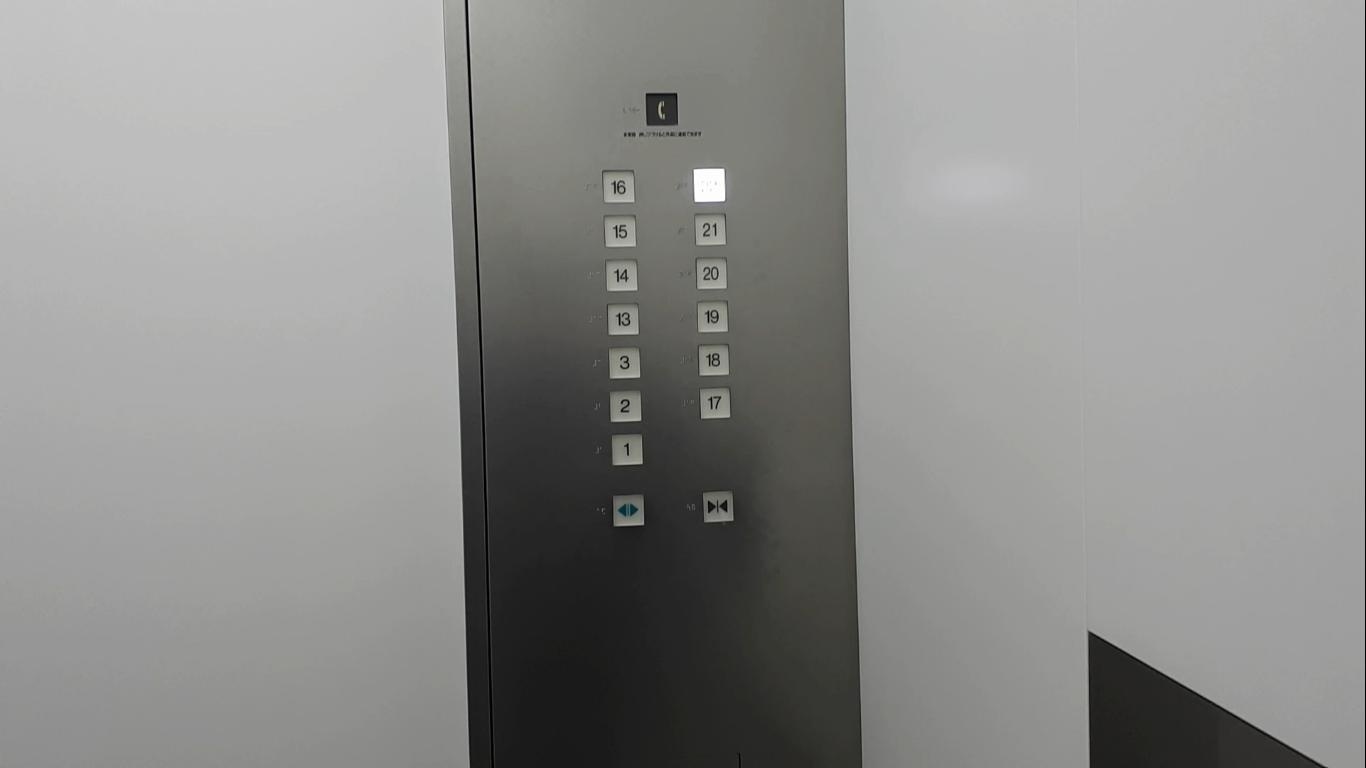1: (610, 433, 644, 467)
13: (606, 302, 640, 337)
14: (604, 258, 639, 293)
15: (603, 214, 637, 249)
16: (602, 169, 636, 205)
17: (699, 386, 732, 420)
18: (697, 343, 731, 376)
19: (696, 300, 730, 333)
2: (608, 389, 642, 424)
20: (695, 256, 729, 291)
21: (694, 212, 728, 247)
3: (607, 345, 641, 380)
blur: (692, 167, 728, 204)
call: (645, 91, 679, 127)
close: (701, 489, 734, 524)
open: (611, 493, 646, 528)
